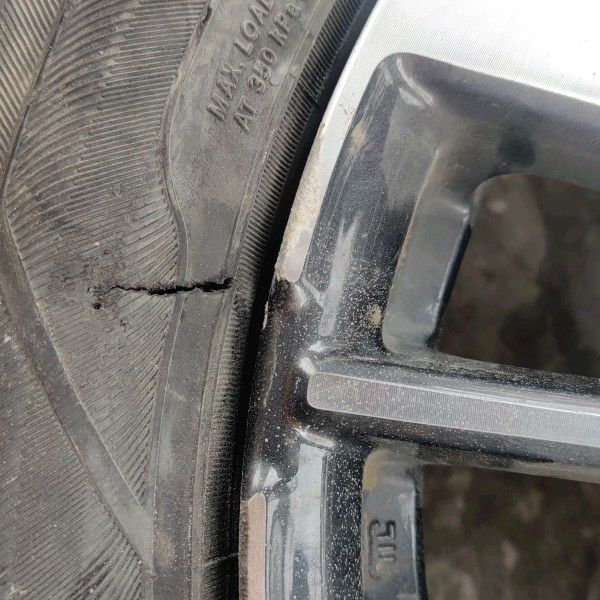cut: (96, 277, 237, 301)
